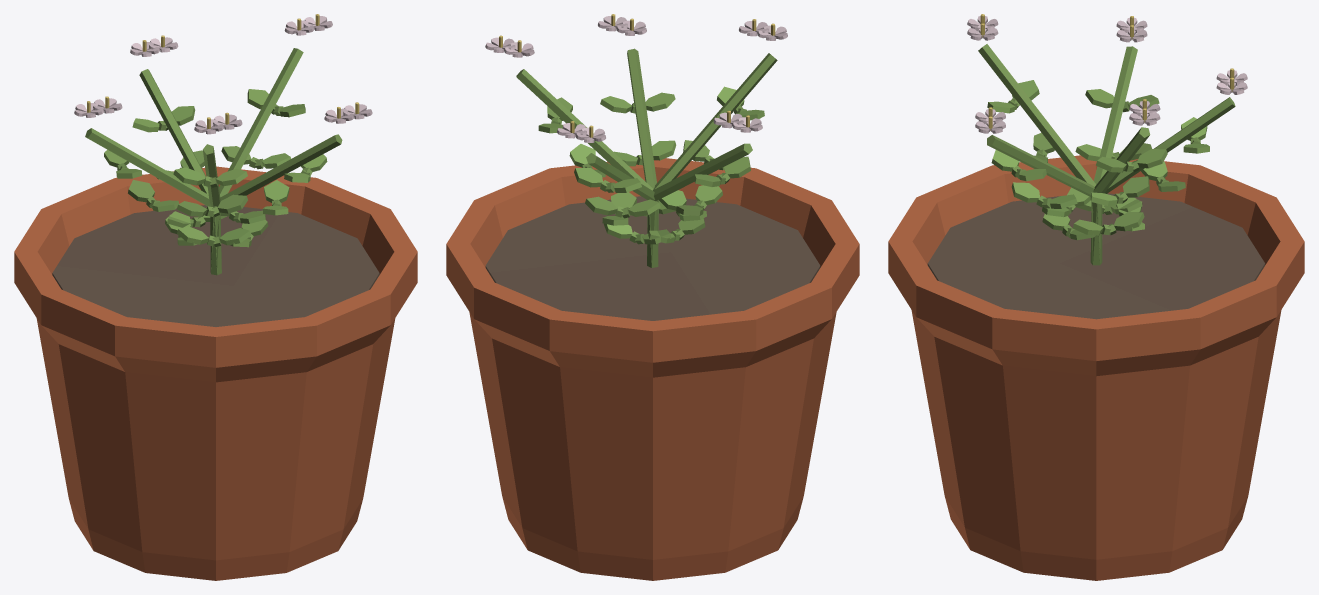
The model's file is oregano.glb.
3 renders of one model, left to right at view 1: azimuth 30°, elevation 25°; view 2: azimuth 150°, elevation 25°; view 3: azimuth 270°, elevation 25°, orthographic. The views are drawn at different scales.
Parts seen in each view (by area): view 1: oregano/review-terra-vessel, oregano/review-rooted-soil, oregano/stem-001, oregano/stem-082, oregano/stem-055, oregano/stem-109, oregano/stem-028; view 2: oregano/review-terra-vessel, oregano/review-rooted-soil, oregano/stem-028, oregano/stem-055, oregano/stem-082, oregano/stem-001, oregano/stem-109; view 3: oregano/review-terra-vessel, oregano/review-rooted-soil, oregano/stem-028, oregano/stem-055, oregano/stem-001, oregano/stem-109, oregano/stem-082.
Boxes of the visible parts, <box> form: oregano/review-terra-vessel: <box>14,166,417,580</box>; oregano/review-rooted-soil: <box>52,205,379,326</box>; oregano/stem-001: <box>85,128,221,273</box>; oregano/stem-082: <box>219,48,303,197</box>; oregano/stem-055: <box>211,134,342,274</box>; oregano/stem-109: <box>139,69,208,194</box>; oregano/stem-028: <box>203,144,221,275</box>; oregano/review-terra-vessel: <box>446,158,859,580</box>; oregano/review-rooted-soil: <box>485,196,820,320</box>; oregano/stem-028: <box>650,53,777,267</box>; oregano/stem-055: <box>627,48,658,267</box>; oregano/stem-082: <box>516,69,653,190</box>; oregano/stem-001: <box>649,143,752,262</box>; oregano/stem-109: <box>586,153,654,200</box>; oregano/review-terra-vessel: <box>888,155,1304,580</box>; oregano/review-rooted-soil: <box>927,193,1265,319</box>; oregano/stem-028: <box>978,44,1099,262</box>; oregano/stem-055: <box>987,135,1102,265</box>; oregano/stem-001: <box>1091,46,1137,249</box>; oregano/stem-109: <box>1104,97,1235,193</box>; oregano/stem-082: <box>1093,127,1150,193</box>.
Size of the model in its own units: 0.19 by 0.2386 by 0.19.
Materials: 5 (5 with a texture image).
